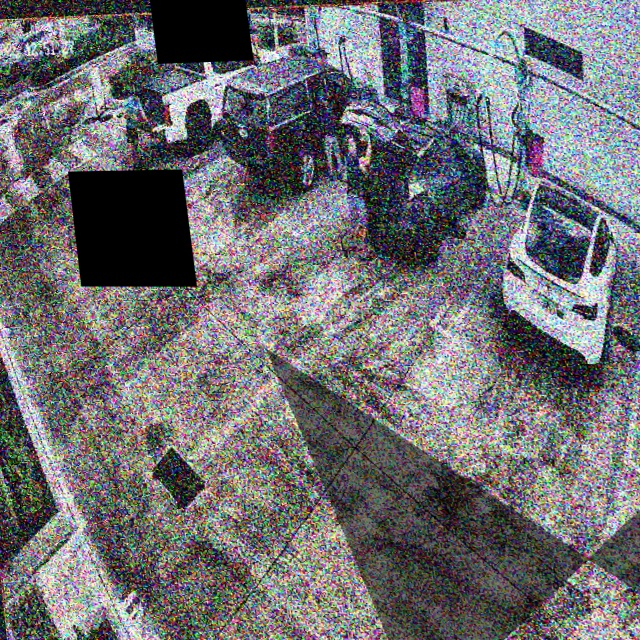Car: (337, 91, 499, 251), (210, 50, 390, 184)
